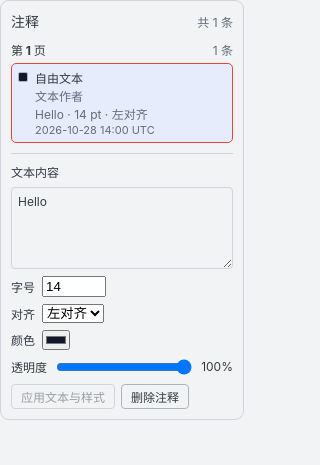
Scenario: AnnotationPanel › reports a refused free text update without claiming success
This screenshot has width=320, height=465.
Replace the text in the text box named "自由文本内容" with "修订后的文本" at (122, 228), box 11,187 -> 233,269
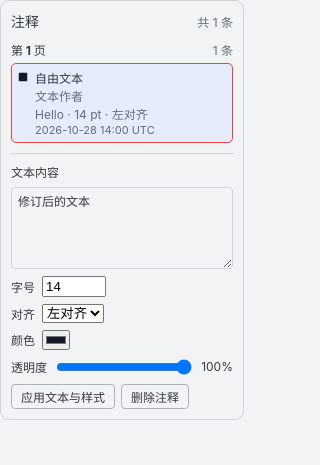
Click the button "应用文本与样式" at (63, 396), box 11,384 -> 115,409
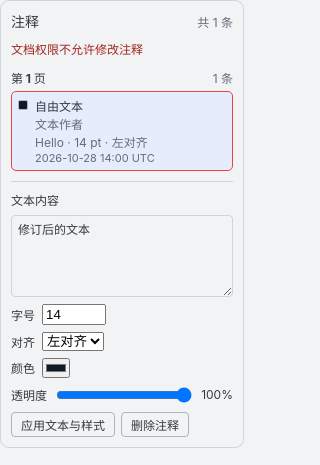
Check: the message reads "文档权限不允许修改注释", box 11,42 -> 143,57
